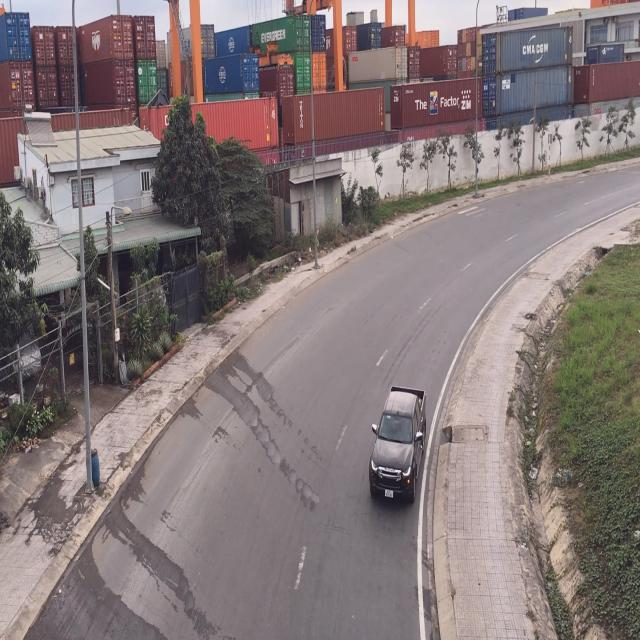car: (366, 386, 424, 504)
